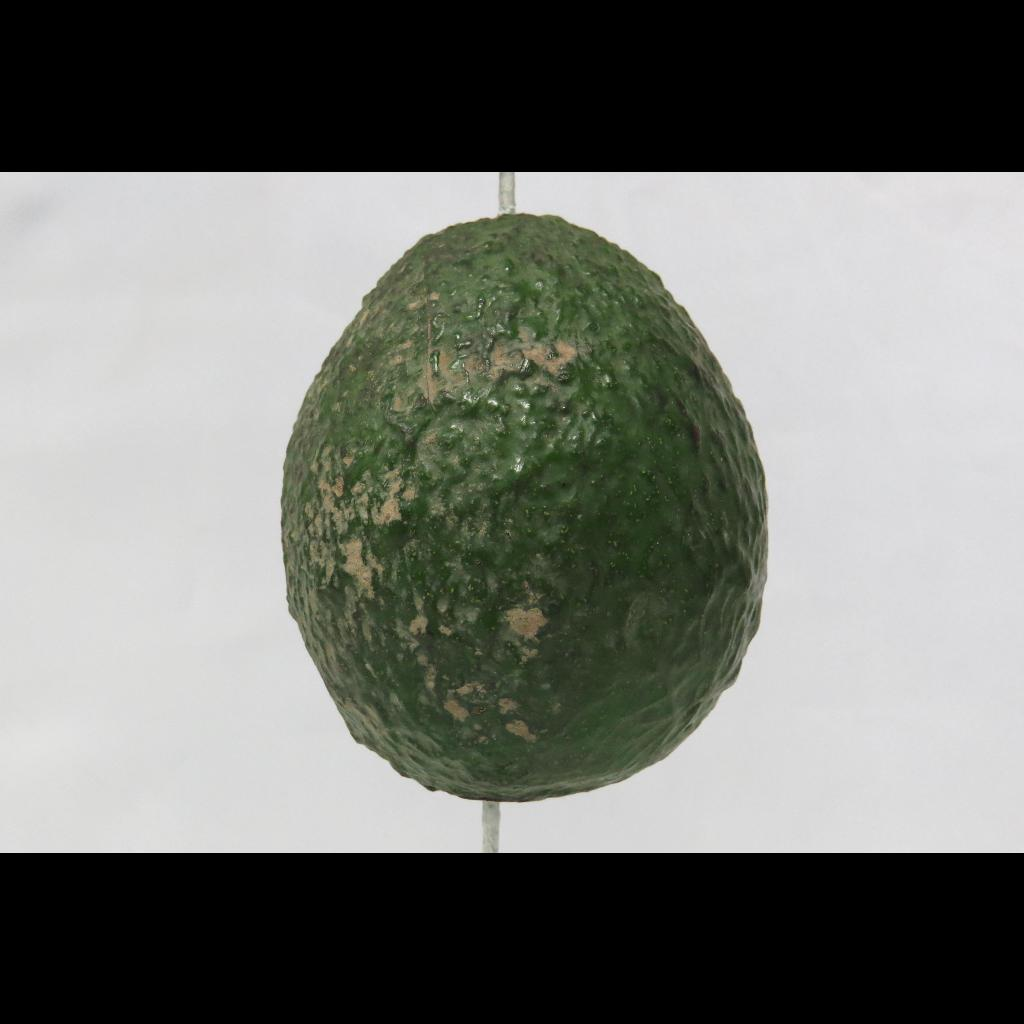Healthy: (220, 188, 822, 818)
